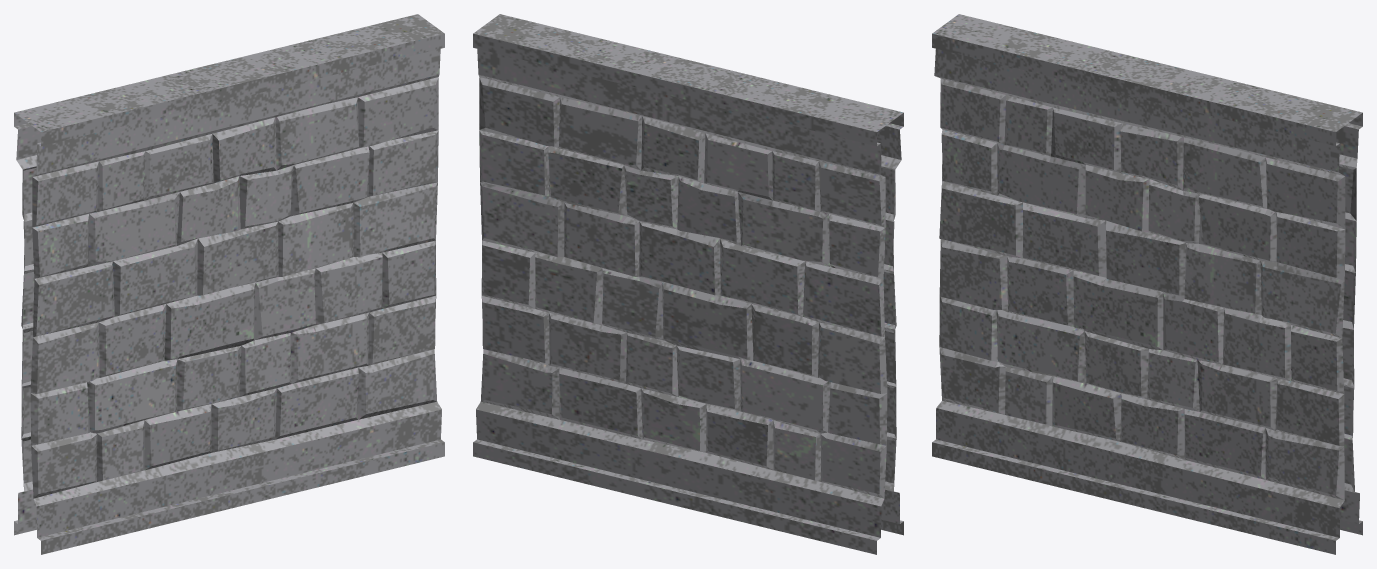
Rendered from wall_stone_no_cloumn_1.glb.
3 views of the same model, side by side, from view 1: azimuth 30°, elevation 25°; view 2: azimuth 150°, elevation 25°; view 3: azimuth 330°, elevation 25° (orthographic).
Parts seen in each view (by area): view 1: BaseWall; view 2: BaseWall; view 3: BaseWall.
Part boxes in pixels (x1,y1,x2,y2): BaseWall: (14,14,444,554); BaseWall: (473,14,903,554); BaseWall: (932,14,1362,554).
Size of the model in its own units: 3.02 by 3 by 0.345.
Materials: 1 (1 with a texture image).
